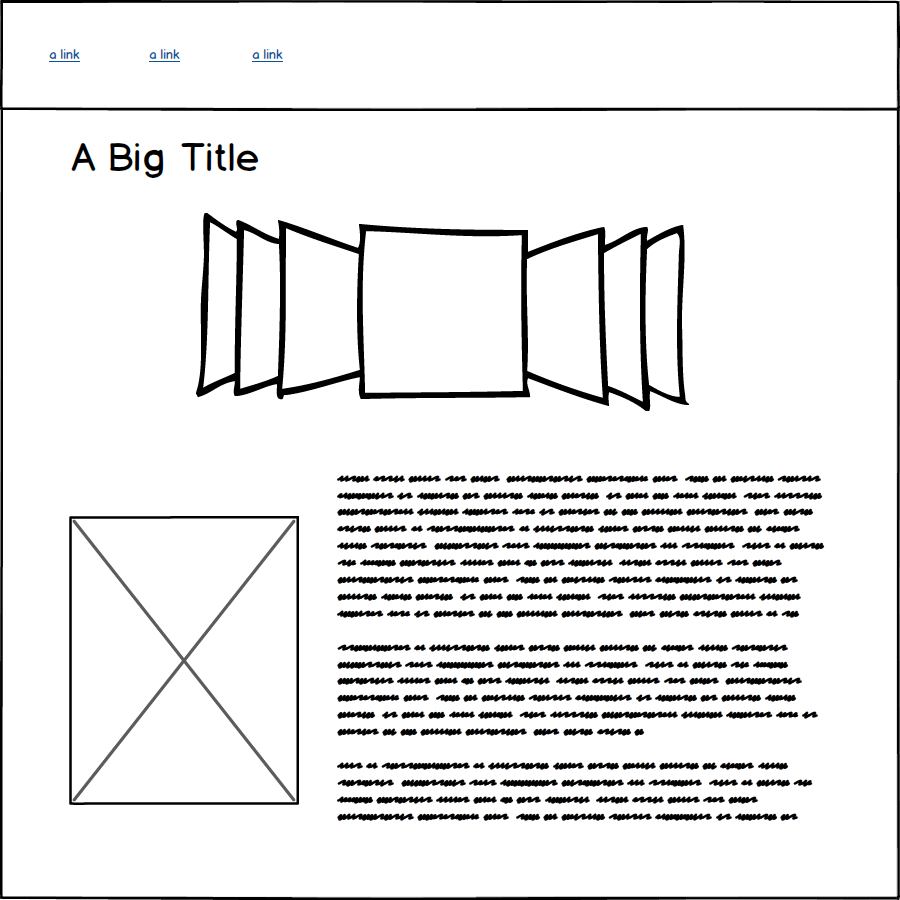h1: (64, 130, 274, 184)
image: (56, 506, 309, 817)
navlink: (44, 36, 94, 74), (248, 36, 292, 73), (144, 41, 187, 69)
p: (333, 466, 830, 828)
slideshow: (182, 203, 707, 422)
